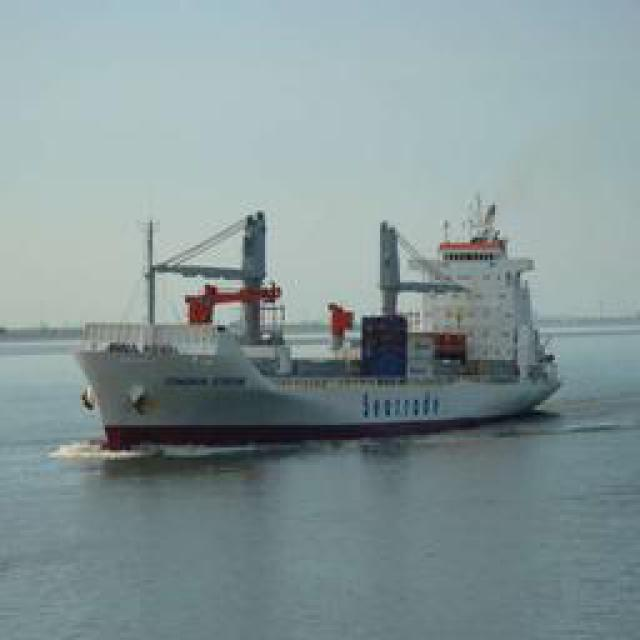Ship: (66, 178, 572, 463)
